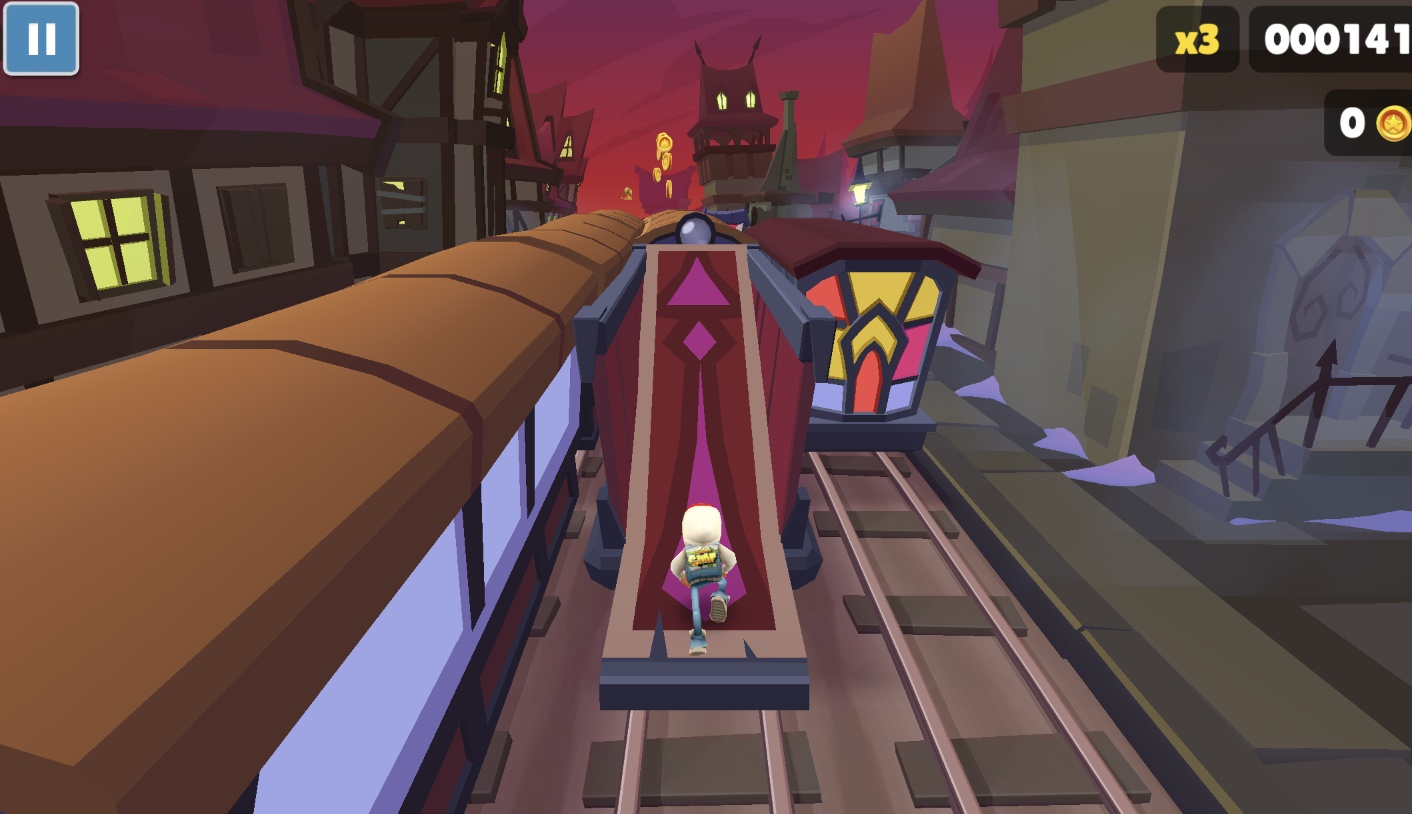overhead_barrier: (703, 207, 751, 230)
train: (0, 210, 647, 814), (573, 211, 837, 711), (745, 217, 983, 455)
